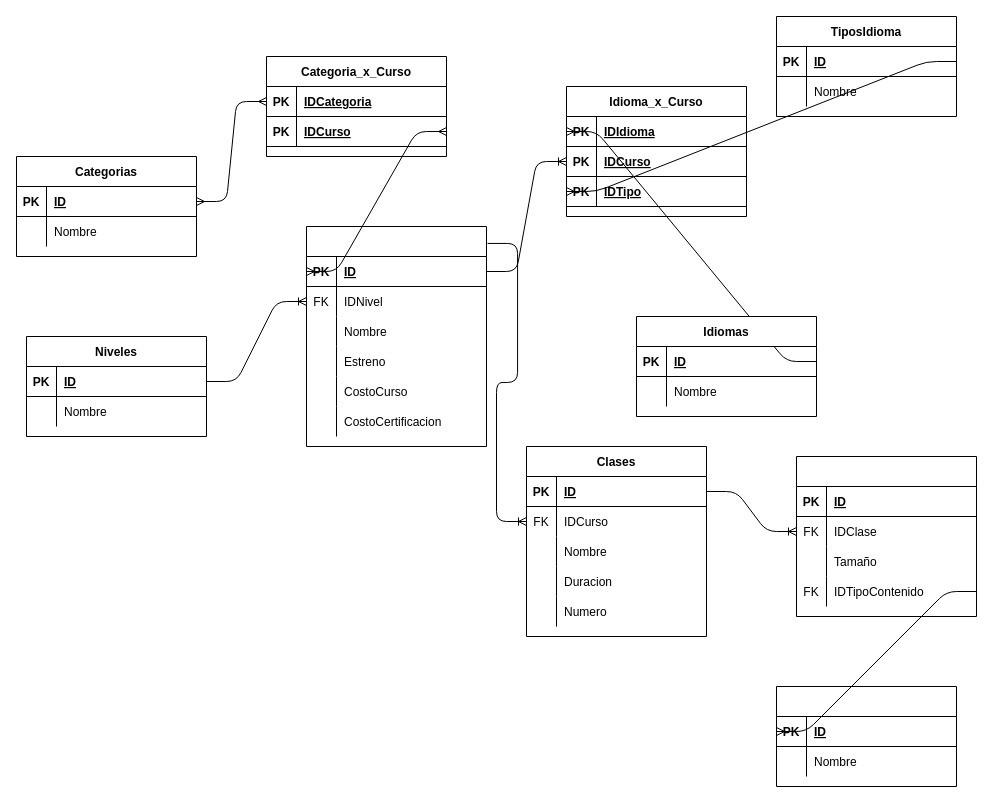
This 993x803 diagram has some shape labels left out. The shapes that lost their labels are listed below. From the top down, each one's box as (x1, y1, x2, y2) in pixels, then its label:
(306, 226, 486, 446): Cursos
(796, 456, 976, 616): Contenidos
(776, 686, 956, 786): TiposContenido
